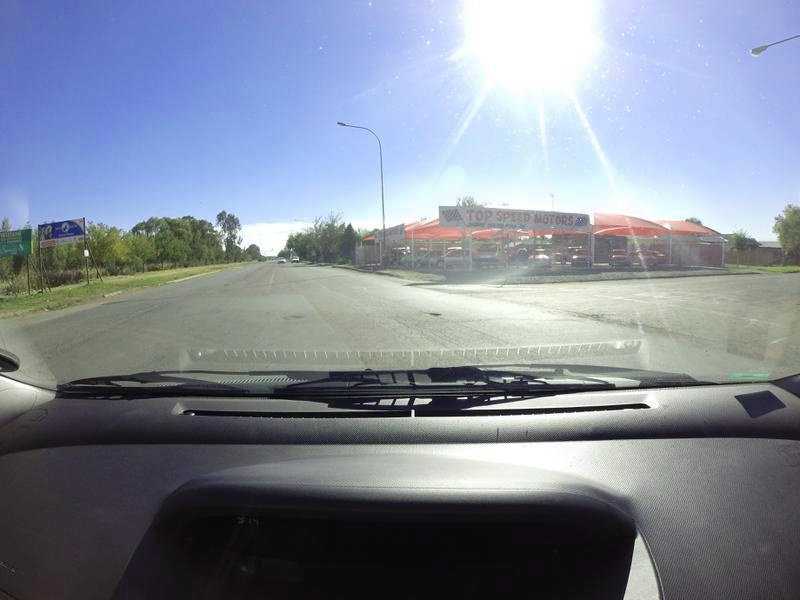pothole: (426, 306, 461, 328)
